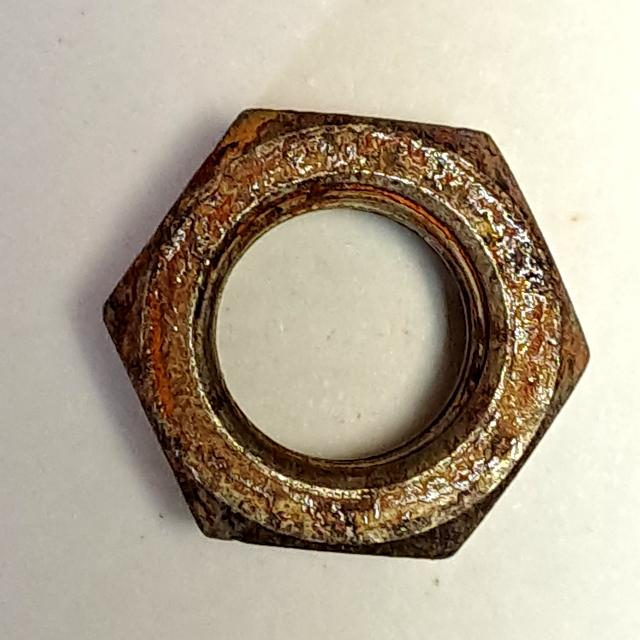Rust: (94, 85, 612, 582)
